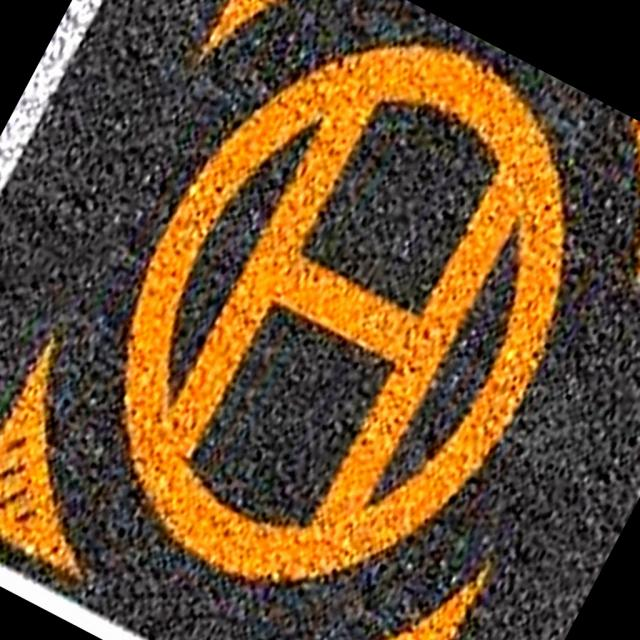helipad: (118, 38, 567, 588)
